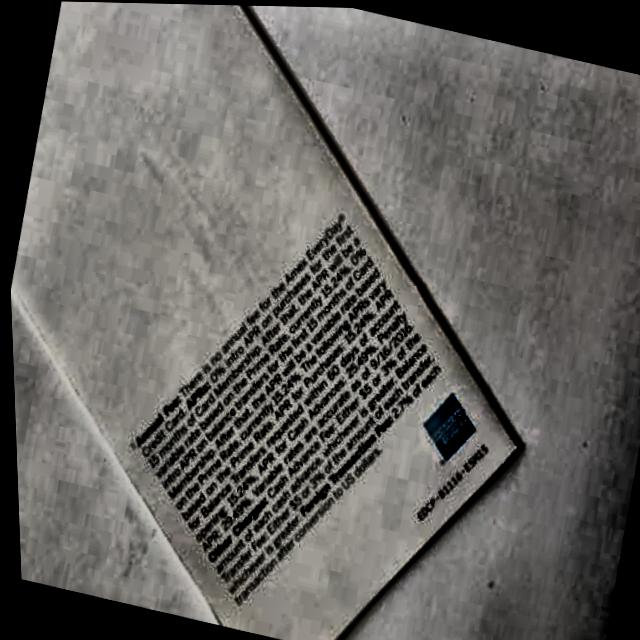Paper: (0, 0, 606, 640)
